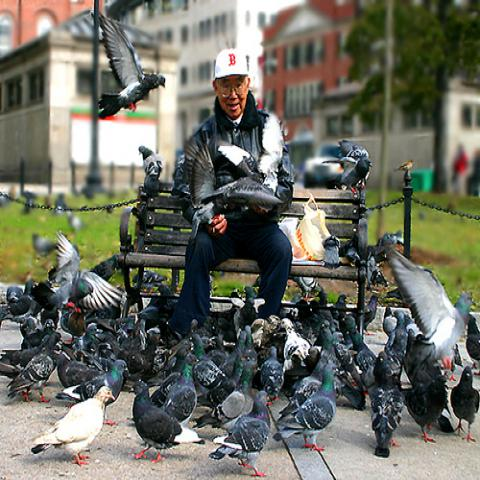car: (302, 141, 342, 190)
